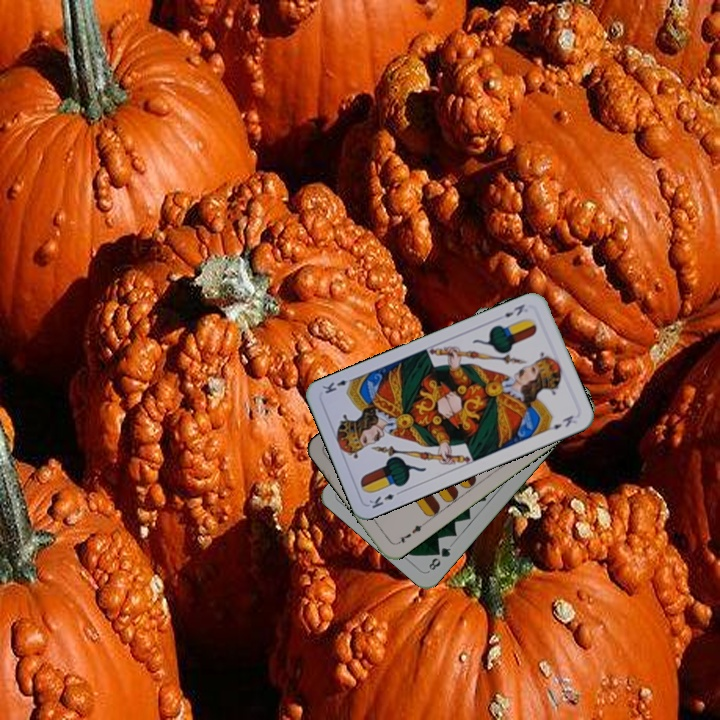E7: (392, 518, 428, 547)
EK: (365, 486, 405, 511), (500, 300, 527, 320)
G8: (424, 543, 453, 573)
